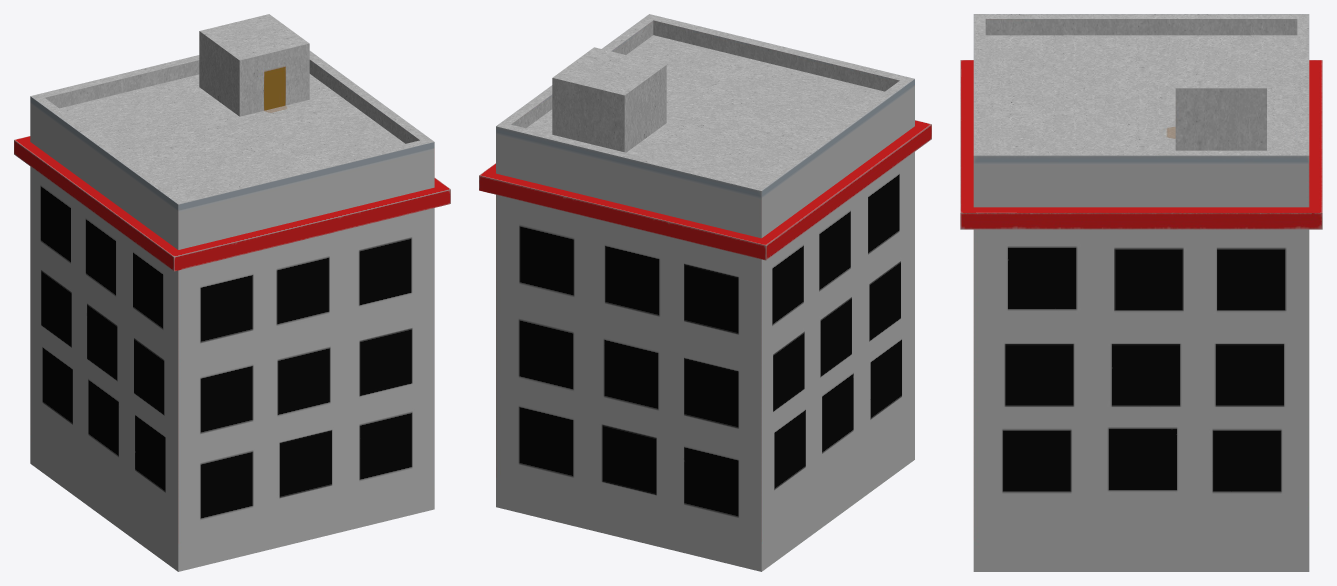
File: gedung.fbx
3 renders of one model, left to right at view 1: azimuth 30°, elevation 25°; view 2: azimuth 150°, elevation 25°; view 3: azimuth 270°, elevation 25°, orthographic. The views are drawn at different scales.
Visible parts, largest first — view 1: Cube; view 2: Cube; view 3: Cube.
Boxes of the visible parts, <box> form: Cube: <box>14,14,450,571</box>; Cube: <box>479,14,931,571</box>; Cube: <box>960,14,1322,571</box>.
Size of the model in its own units: 295 by 416 by 295.
1 material, 1 textured.
